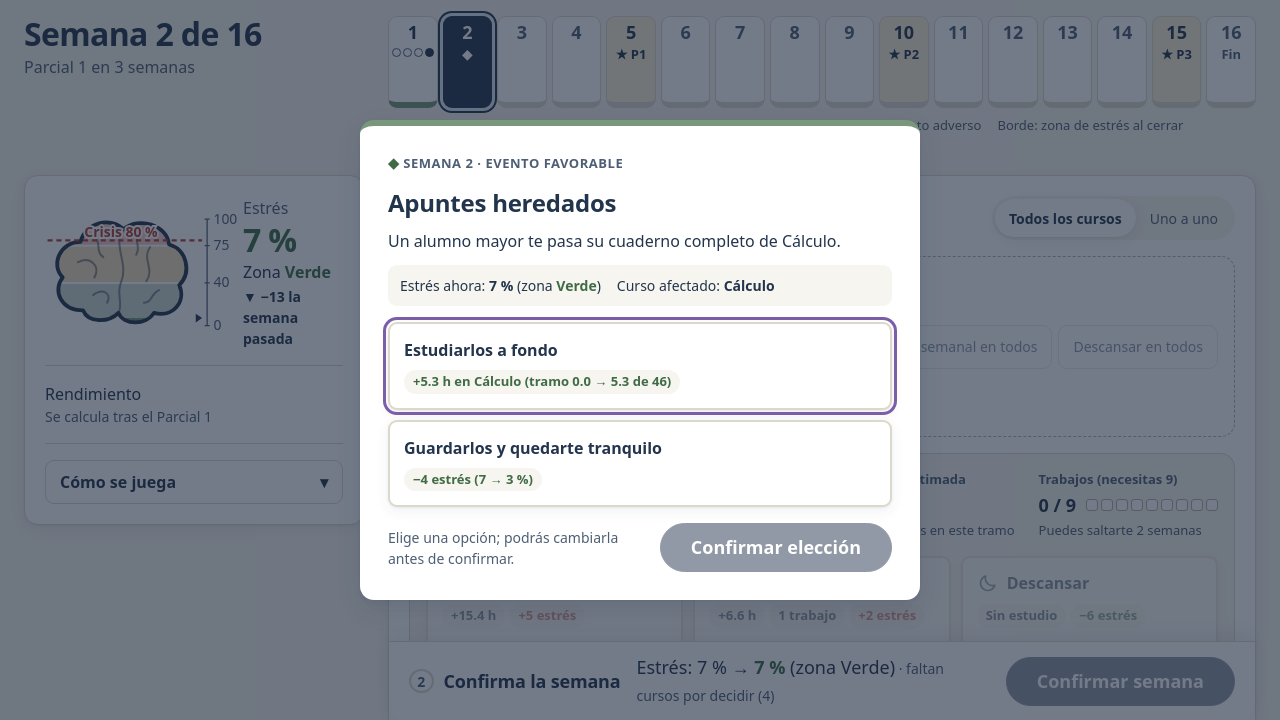
Test case: interfaz › eventos › tras elegir, el evento se reabre solo para leerlo y Escape lo cierra devolviendo el foco
The width and height of the screenshot is (1280, 720).
Click the button that starts with "Estudiarlos a fondo".
click(481, 350)  # box [388,322,892,410]
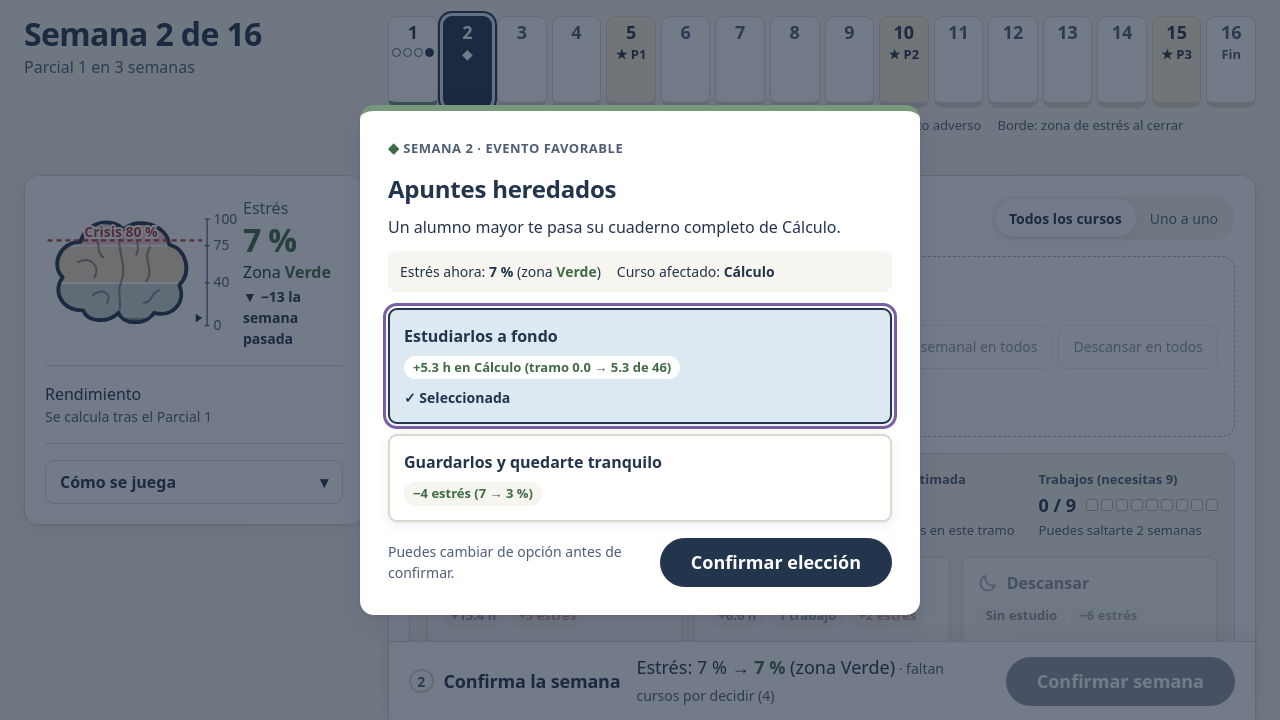
Click the button "Confirmar elección".
click(776, 562)  # box [660,538,892,587]
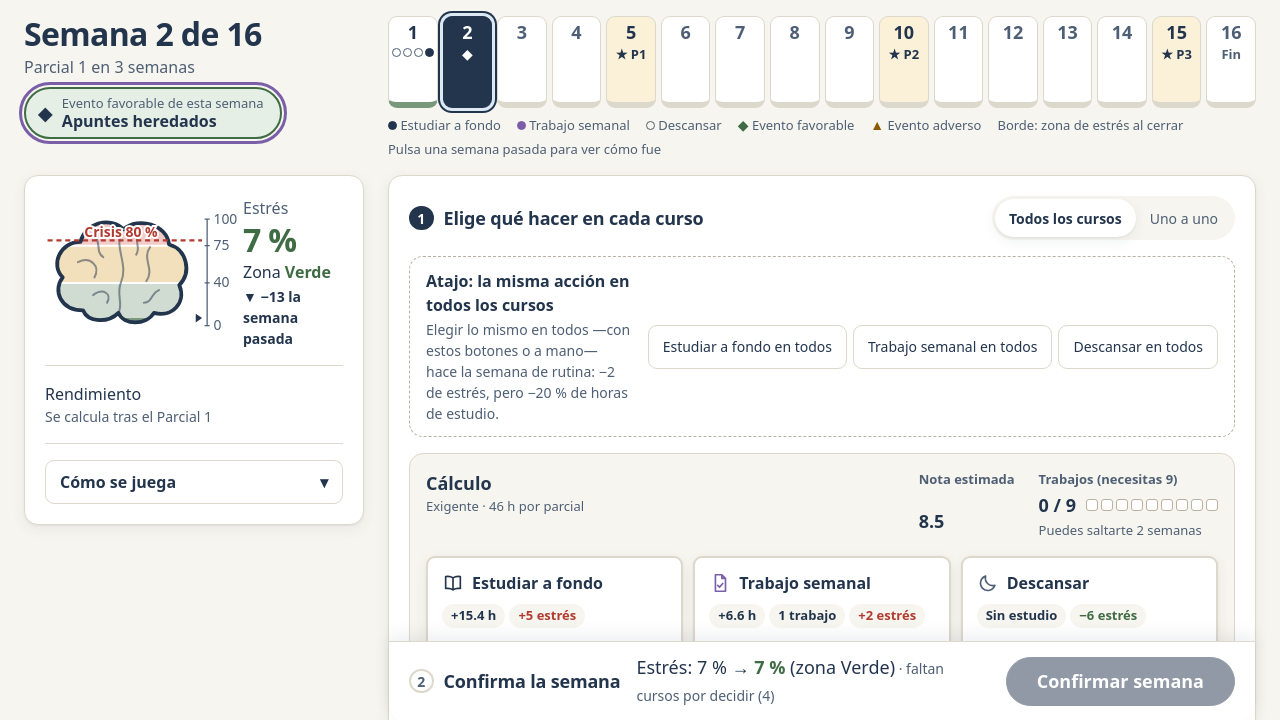
Click the button "◆ Evento favorable de esta semana Apuntes heredados".
click(153, 113)  # box [24,87,282,139]
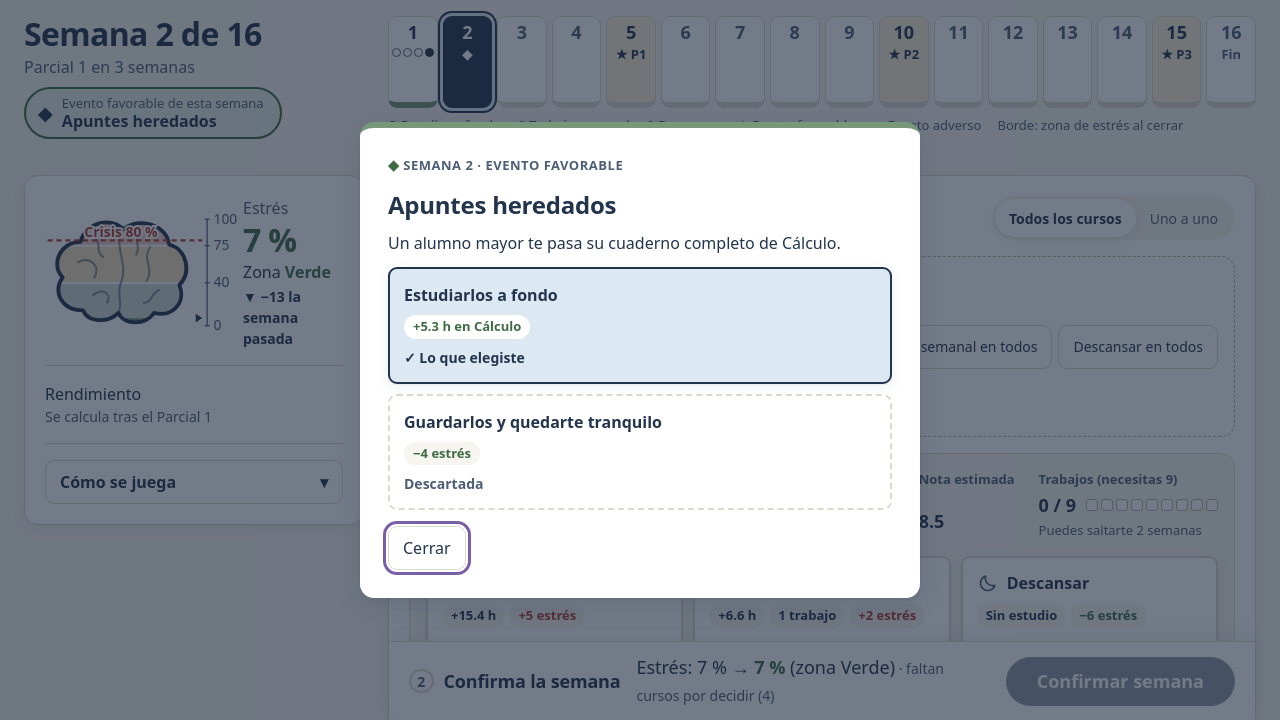
Press Escape
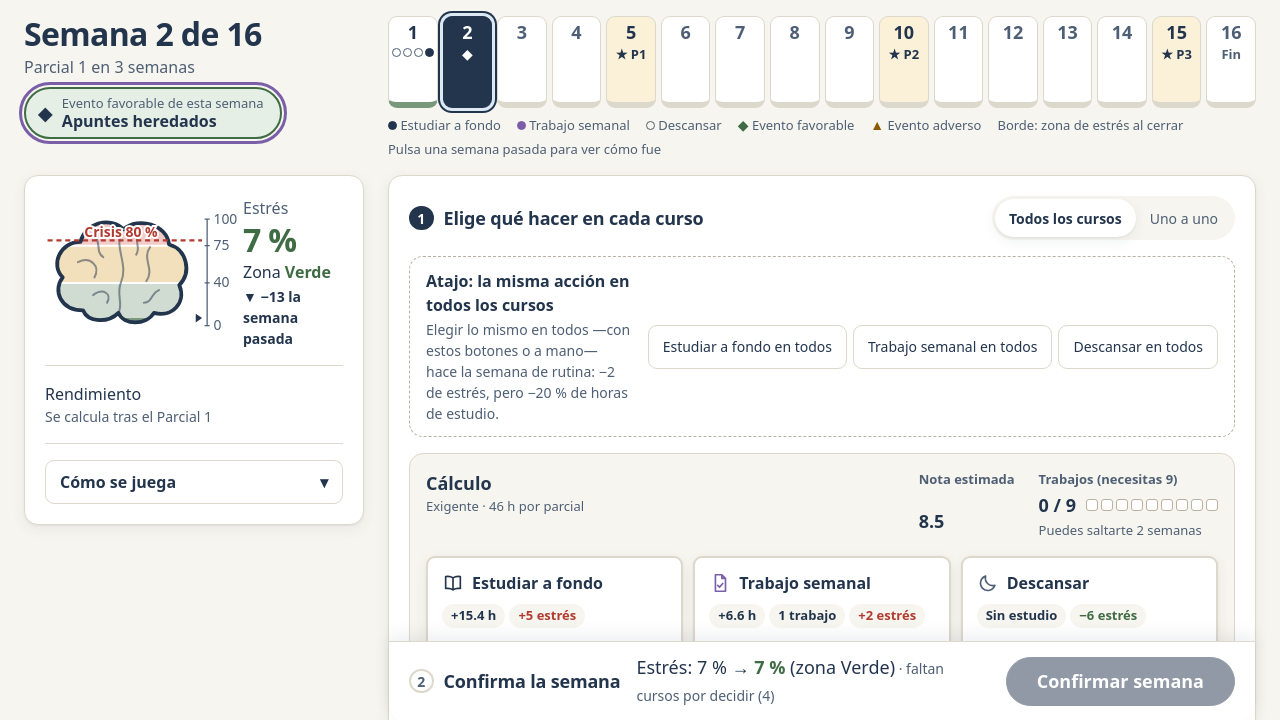
Expected: the dialog is gone
Click the button "◆ Evento favorable de esta semana Apuntes heredados".
click(153, 113)  # box [24,87,282,139]
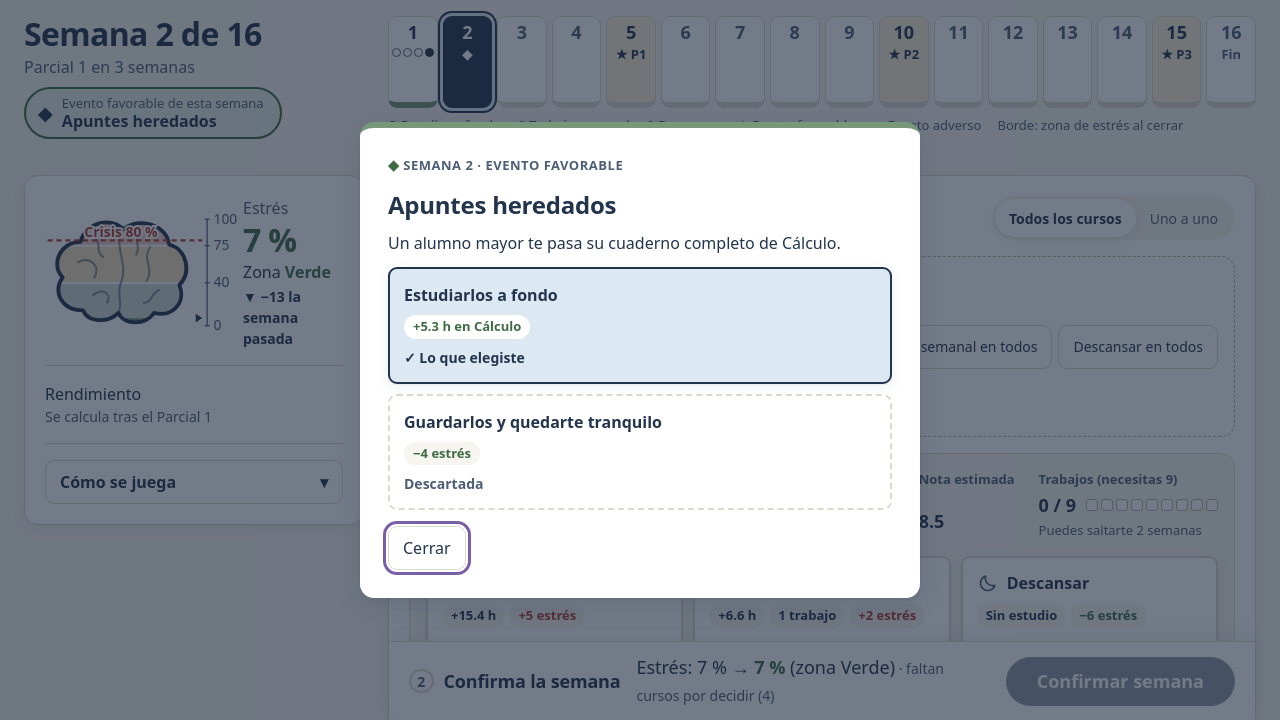
Click the button "Cerrar".
click(427, 548)  # box [388,526,466,570]
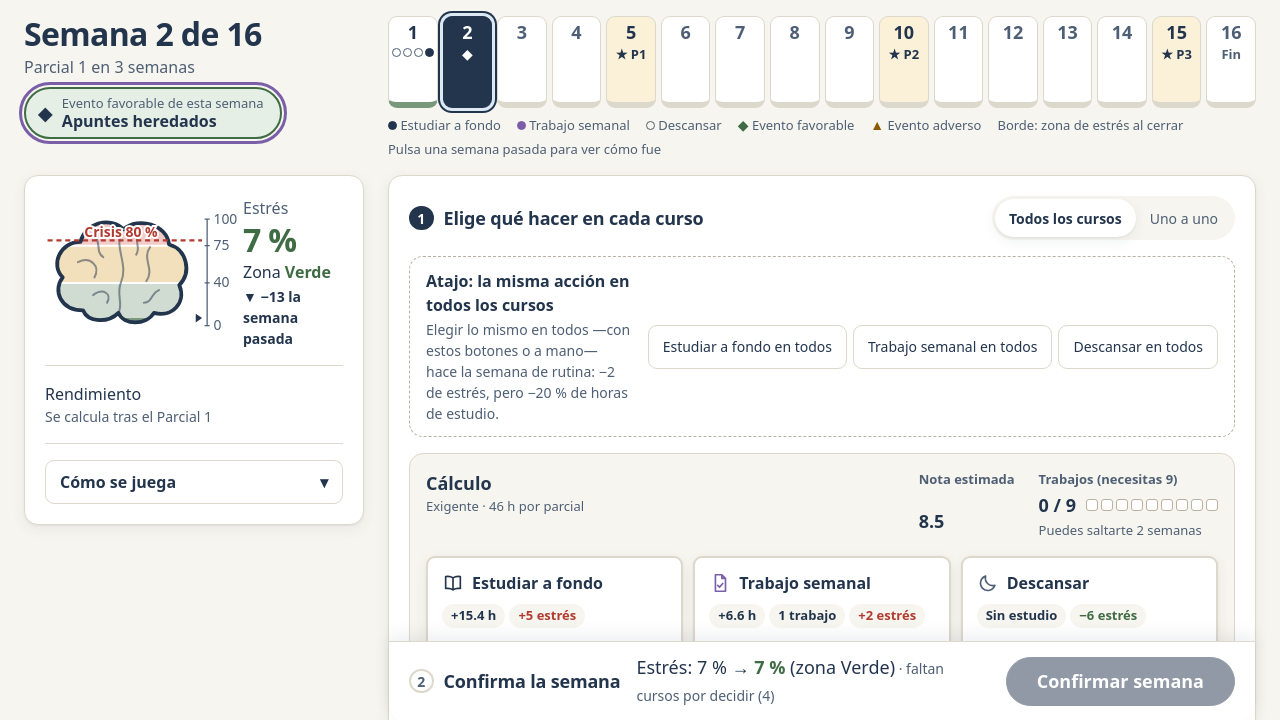
Expected: the dialog is gone
